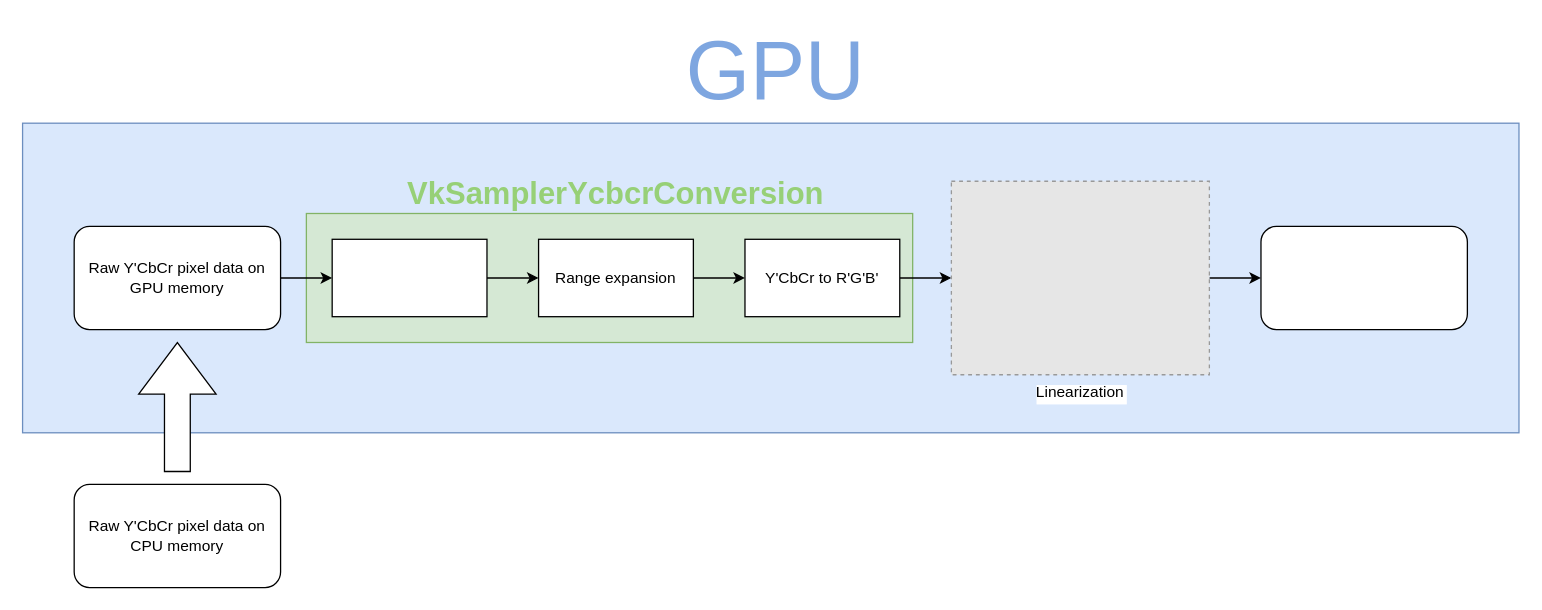
This 1542x610 diagram has some shape labels left out. Grey dashed boxes stand in for pictures. The shapes that lost their labels are listed below. From the top down, each one's box as (x1, y1, x2, y2) in pixels, then its label:
(331, 238, 487, 317): Chroma reconstruction
(1260, 225, 1467, 330): Raw RGB pixel data on GPU memory
(137, 341, 216, 471): DMA
